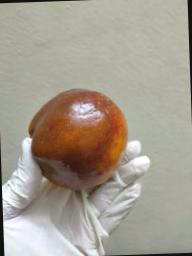Apple Rotten: (5, 60, 142, 201)
